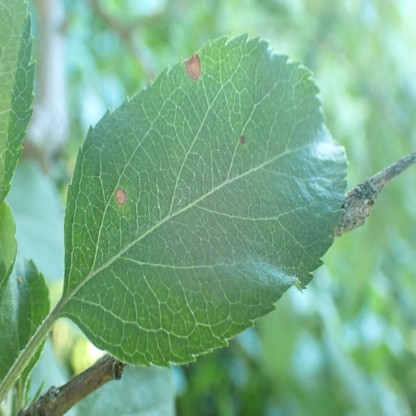frogeye_leaf_spot: (184, 53, 202, 81), (115, 187, 127, 205), (240, 136, 245, 145)
